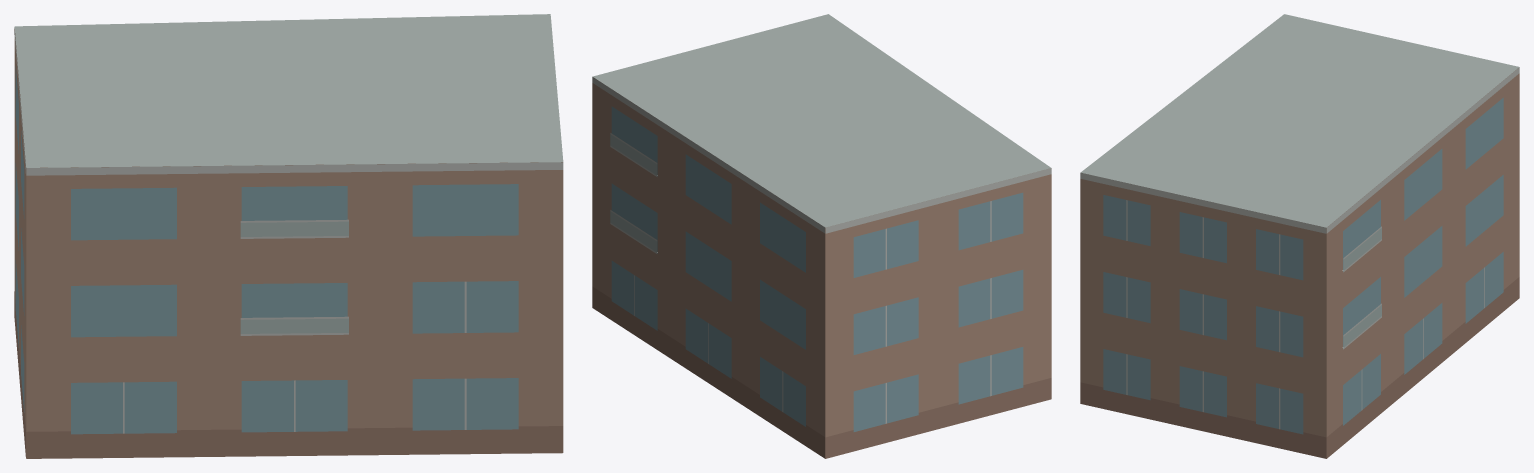
Rendered from survey-upis-32770463.glb.
3 renders of one model, left to right at view 1: azimuth 30°, elevation 25°; view 2: azimuth 150°, elevation 25°; view 3: azimuth 270°, elevation 25°, orthographic. The views are drawn at different scales.
Visible parts, largest first — view 1: survey-upis-32770463.tmp; view 2: survey-upis-32770463.tmp; view 3: survey-upis-32770463.tmp.
Part boxes in pixels (x1,y1,x2,y2): survey-upis-32770463.tmp: (14, 14, 563, 458); survey-upis-32770463.tmp: (592, 14, 1051, 458); survey-upis-32770463.tmp: (1080, 14, 1519, 458).
Bounding box in the file's own units: 18.15 × 9.15 × 15.76.
